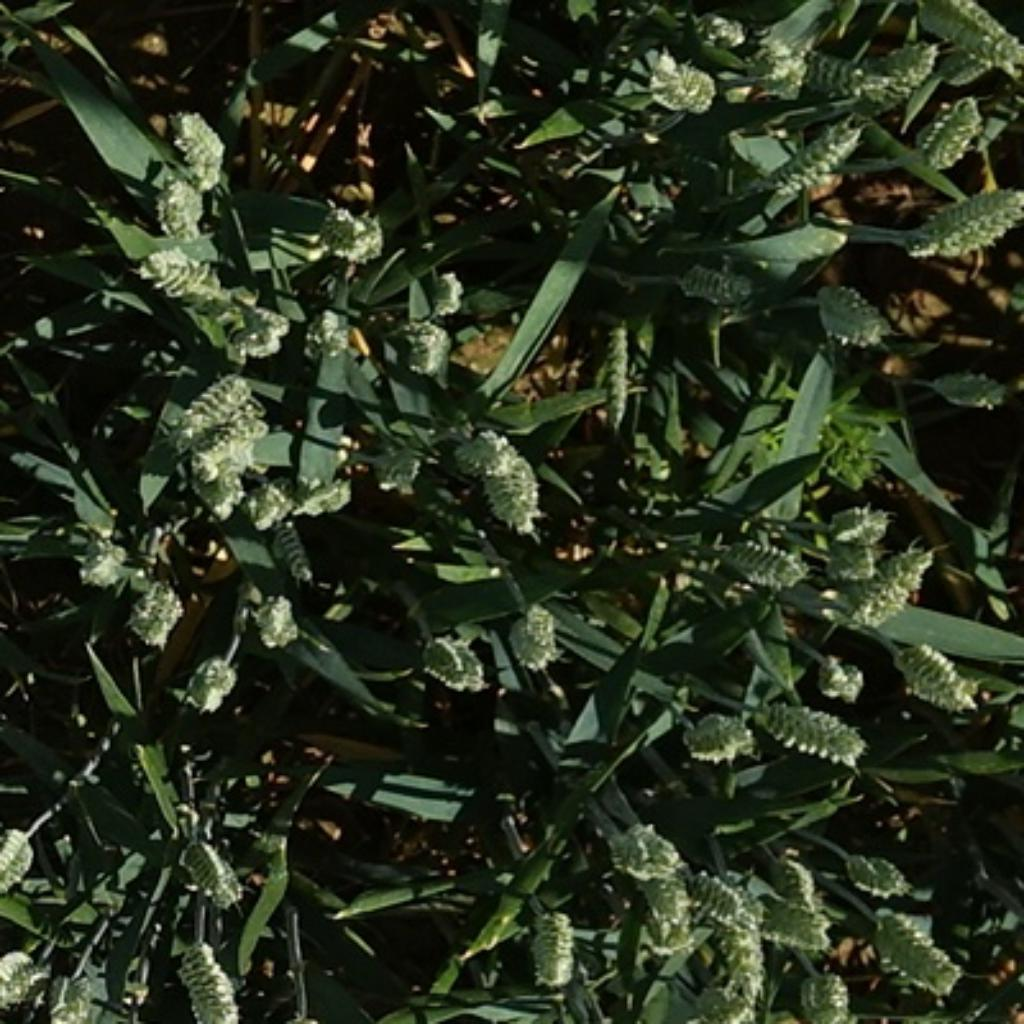0-0: (803, 540, 936, 637), (453, 414, 547, 527), (906, 181, 1021, 266), (596, 808, 688, 908), (821, 46, 921, 138), (745, 699, 876, 768), (162, 364, 258, 458), (768, 107, 867, 192), (871, 905, 963, 994), (138, 245, 245, 320), (783, 38, 939, 88), (885, 629, 980, 711), (168, 929, 248, 1024), (163, 839, 253, 921), (913, 2, 1018, 71), (706, 527, 811, 591), (808, 273, 896, 348), (599, 309, 647, 445), (742, 888, 839, 954), (304, 192, 389, 263), (191, 409, 278, 478), (913, 92, 988, 171), (163, 104, 230, 192), (706, 911, 773, 998), (668, 256, 777, 309), (519, 901, 583, 990), (409, 624, 491, 691), (391, 314, 468, 381), (501, 593, 565, 673), (695, 955, 769, 1024), (640, 48, 716, 115), (69, 522, 140, 593), (675, 701, 757, 762), (284, 458, 360, 522), (122, 570, 186, 645), (686, 860, 755, 929), (624, 901, 701, 962), (826, 501, 883, 583), (747, 30, 811, 102), (176, 645, 243, 711), (366, 432, 432, 499), (245, 583, 309, 650), (289, 304, 353, 371), (760, 849, 829, 911), (236, 478, 300, 537), (153, 168, 209, 232), (839, 847, 911, 896), (683, 10, 755, 58), (926, 369, 1015, 407), (35, 970, 97, 1024), (0, 942, 48, 1011), (793, 967, 849, 1024), (232, 304, 286, 363), (271, 522, 317, 586), (0, 816, 38, 893), (422, 268, 471, 325), (811, 652, 862, 696), (198, 478, 246, 522)
